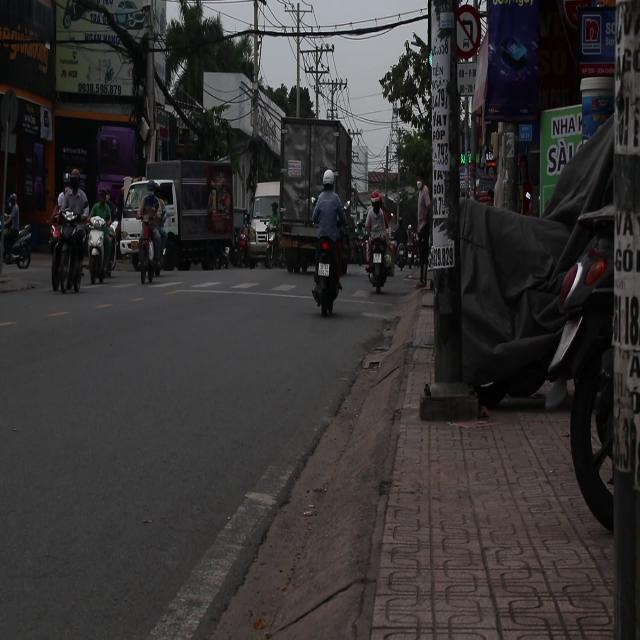motorbike: (49, 212, 90, 294), (130, 212, 168, 286), (314, 225, 341, 324), (84, 215, 120, 285), (364, 232, 395, 292), (1, 222, 32, 270)
truck: (276, 117, 353, 267), (142, 161, 236, 272), (248, 185, 282, 256)
